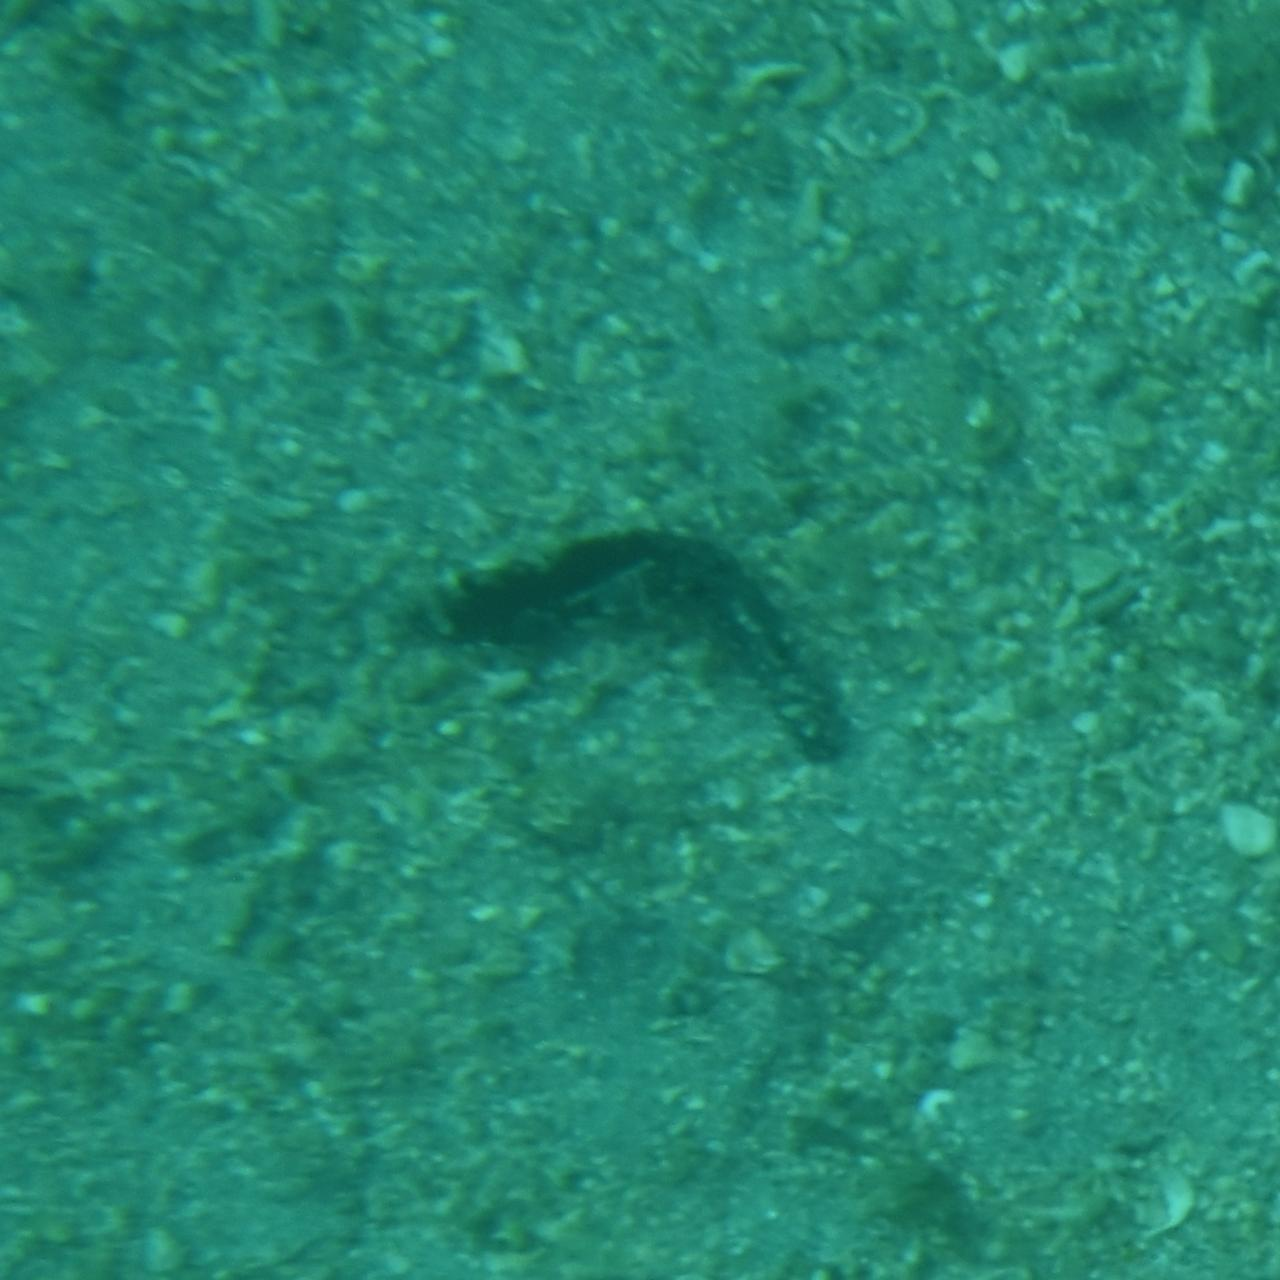Holothuria tubulosa: (420, 516, 860, 764)
